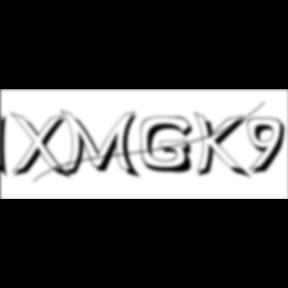G: (140, 116, 200, 176)
K: (194, 110, 254, 182)
M: (60, 108, 144, 181)
X: (10, 112, 74, 182)
l: (0, 108, 14, 182)
